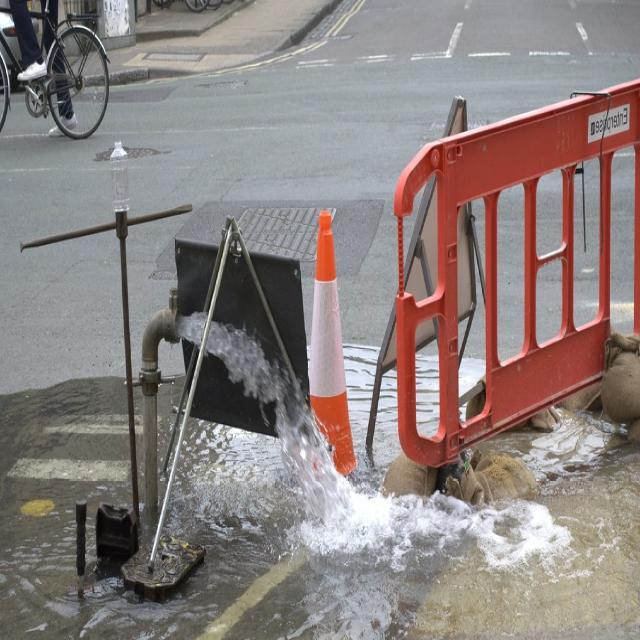water_leak: (176, 305, 396, 570)
